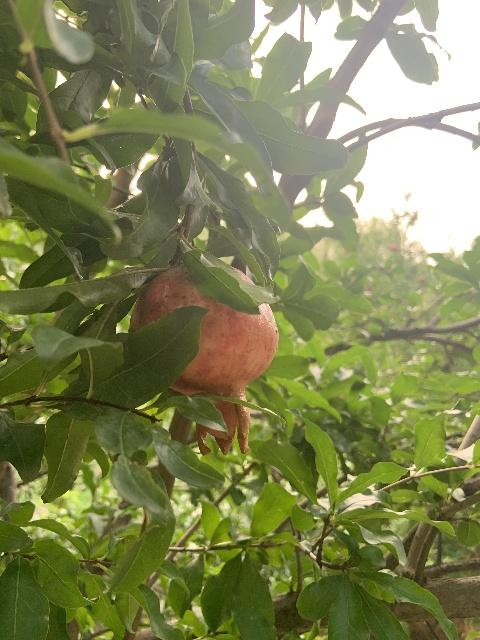ripe: (132, 267, 279, 456)
